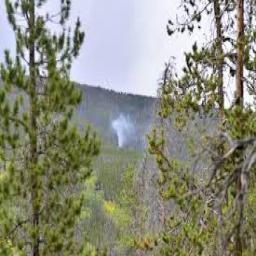Low smoke: (94, 54, 198, 146)
